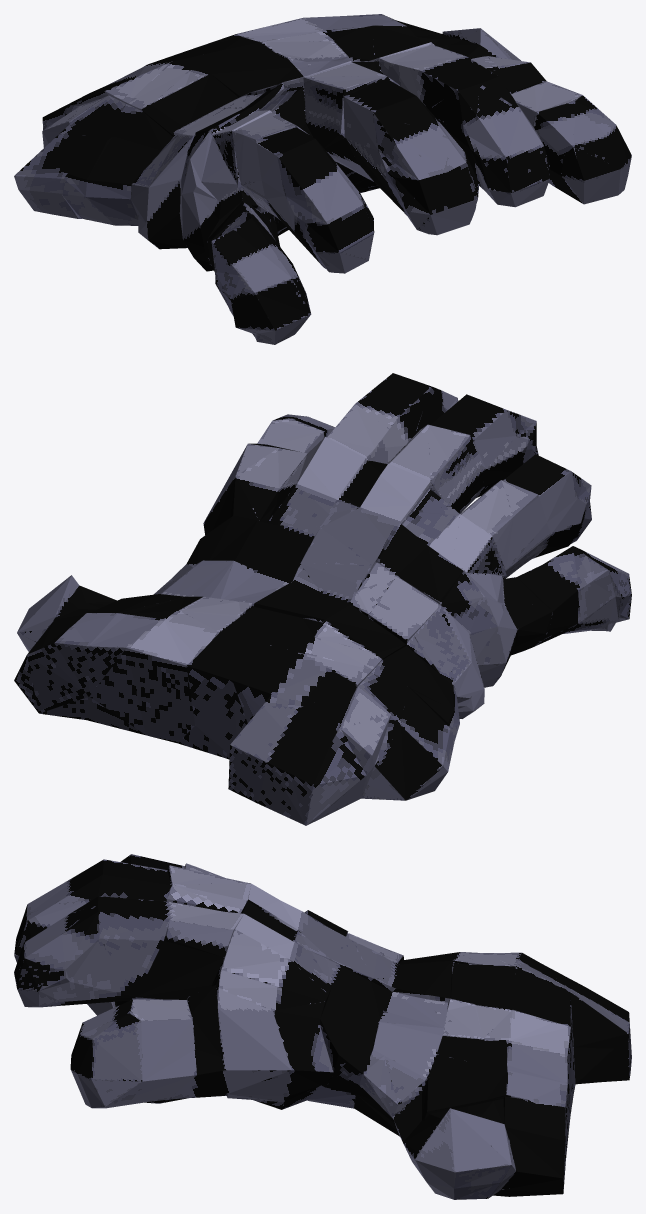
3 views of the same model, one above another, from view 1: azimuth 30°, elevation 25°; view 2: azimuth 150°, elevation 25°; view 3: azimuth 270°, elevation 25° (orthographic). The views are drawn at different scales.
Visible parts, largest first — view 1: OBJ028; view 2: OBJ028; view 3: OBJ028.
Boxes of the visible parts, x1,y1,x2,y2 form: OBJ028: (14,14,631,344); OBJ028: (14,373,631,825); OBJ028: (14,854,631,1199).
Size of the model in its own units: 0.3346 by 0.1598 by 0.3856.
Materials: 1 (1 with a texture image).
